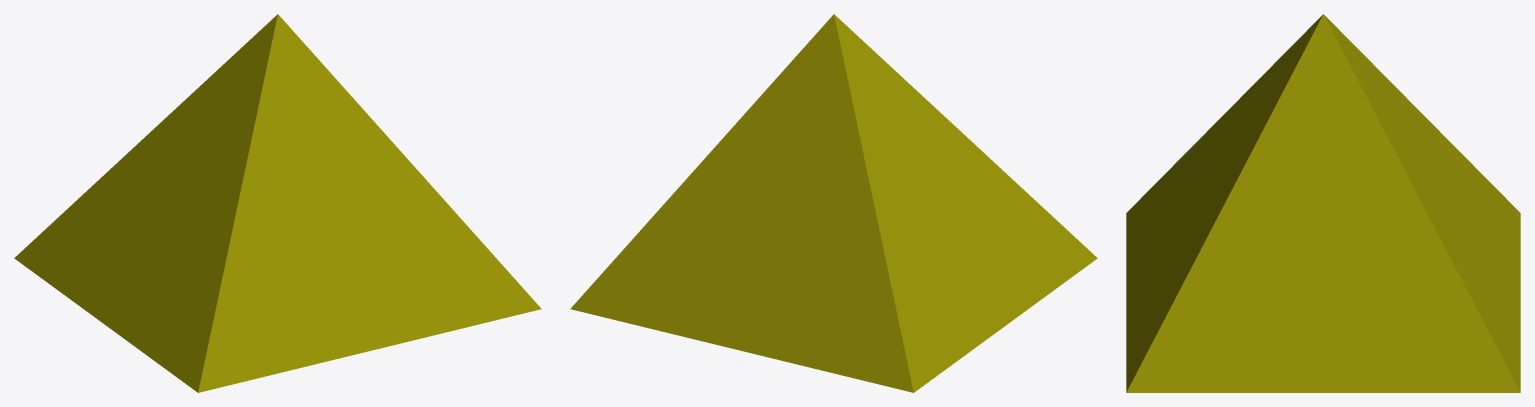
The model's file is pyrimd model.fbx.
3 views of the same model, side by side, from view 1: azimuth 30°, elevation 25°; view 2: azimuth 150°, elevation 25°; view 3: azimuth 270°, elevation 25° (orthographic). The views are drawn at different scales.
Parts seen in each view (by area): view 1: pyrimd; view 2: pyrimd; view 3: pyrimd.
Part boxes in pixels (x1=…): pyrimd: x1=14, y1=14, x2=541, y2=392; pyrimd: x1=570, y1=14, x2=1097, y2=392; pyrimd: x1=1126, y1=14, x2=1520, y2=392.
Size of the model in its own units: 5091 by 3818 by 4721.
